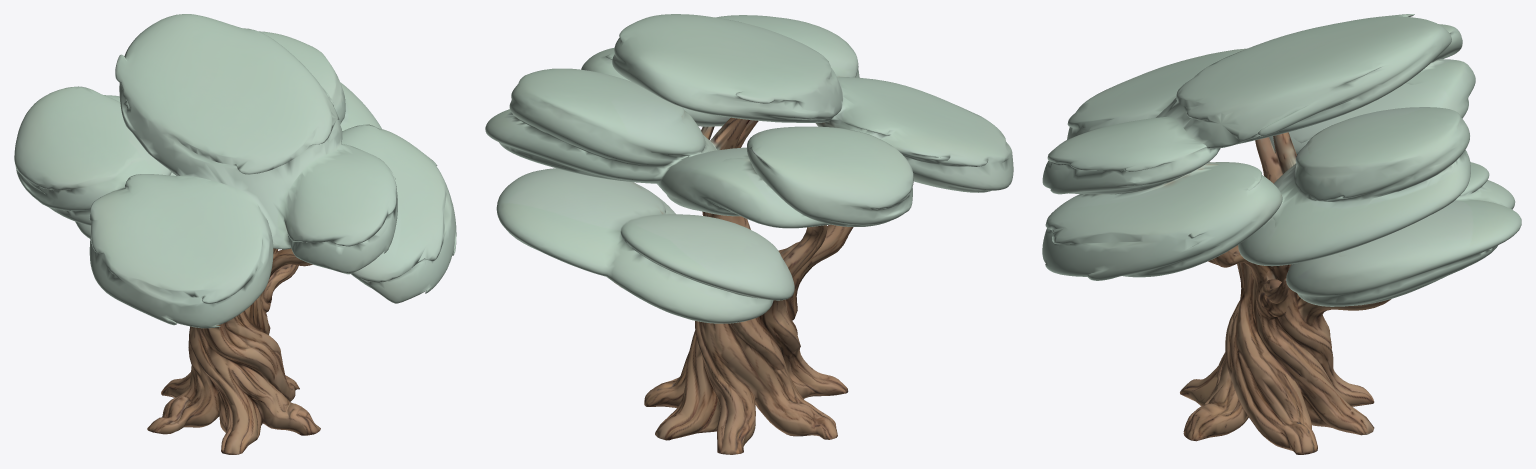
Rendered from prop_olive_tree.glb.
3 views of the same model, side by side, from view 1: azimuth 30°, elevation 25°; view 2: azimuth 150°, elevation 25°; view 3: azimuth 270°, elevation 25° (orthographic). The views are drawn at different scales.
Visible parts, largest first — view 1: material; view 2: material; view 3: material.
Boxes of the visible parts, x1,y1,x2,y2 form: material: [14, 14, 456, 454]; material: [485, 14, 1013, 454]; material: [1042, 14, 1521, 454].
Bounding box in the file's own units: 0.9785 × 0.9309 × 1.03.
Materials: 1 (1 with a texture image).
